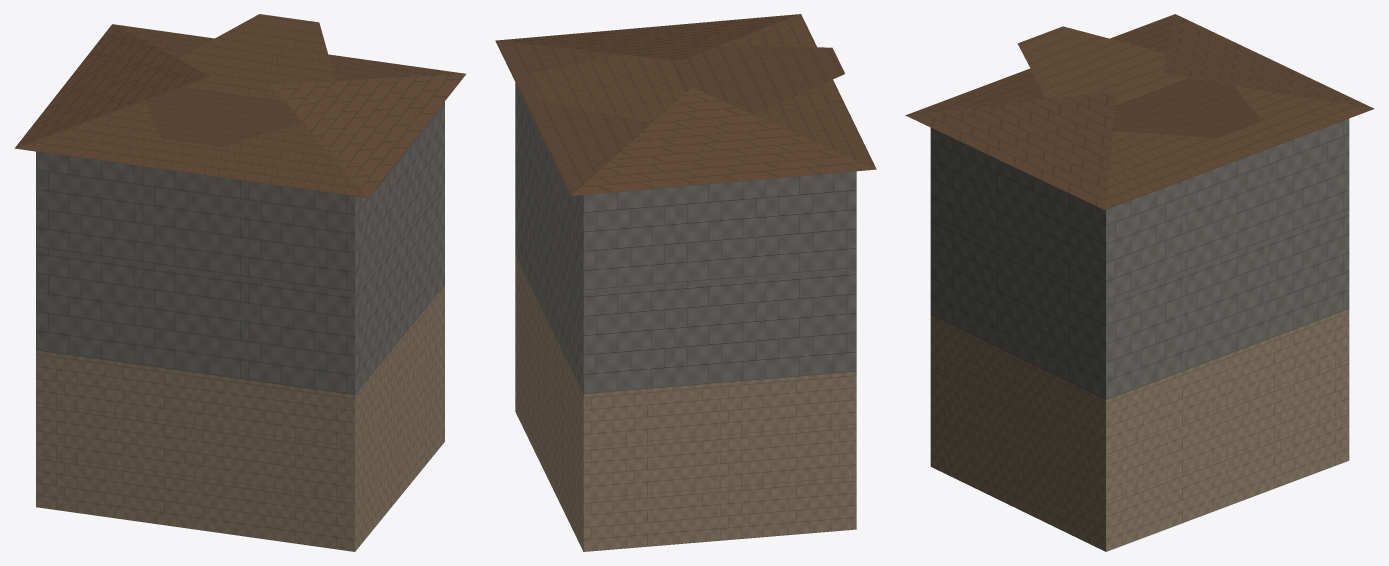
The model's file is bld_c38_47_196.gltf.
3 renders of one model, left to right at view 1: azimuth 30°, elevation 25°; view 2: azimuth 150°, elevation 25°; view 3: azimuth 270°, elevation 25°, orthographic. The views are drawn at different scales.
Visible parts, largest first — view 1: bld_c38_47_196; view 2: bld_c38_47_196; view 3: bld_c38_47_196.
Boxes of the visible parts, <box> form: bld_c38_47_196: <box>14,14,465,551</box>; bld_c38_47_196: <box>495,14,876,551</box>; bld_c38_47_196: <box>905,14,1374,551</box>.
Size of the model in its own units: 14.13 by 12.8 by 14.29.
Materials: 3 (3 with a texture image).
